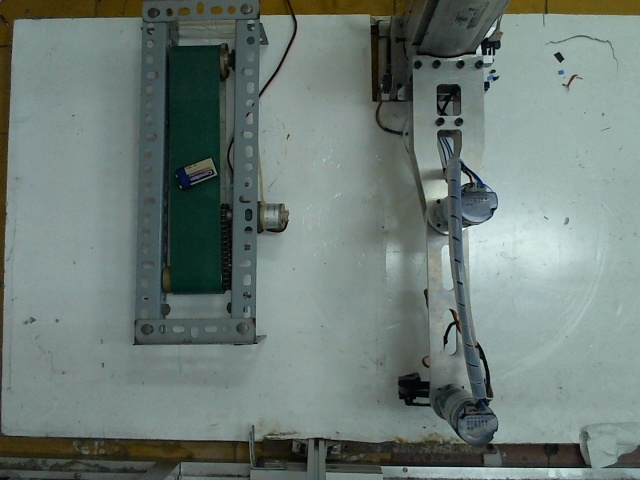battery: (174, 154, 220, 187)
